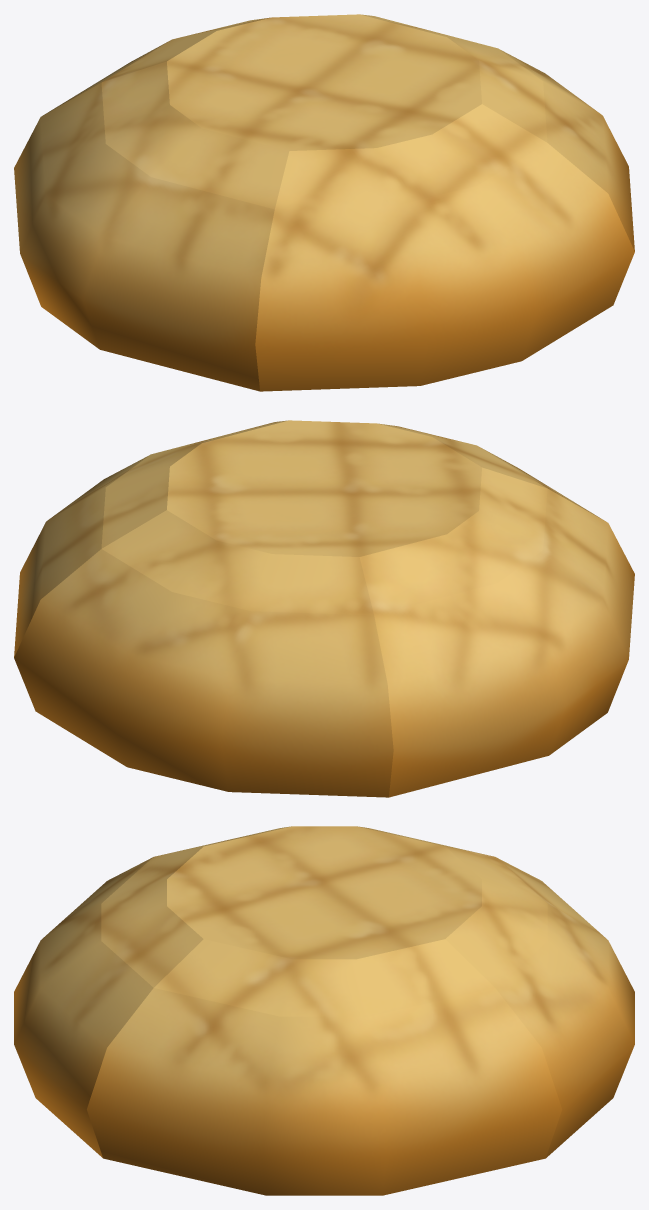
The model's file is Enemy2.fbx.
3 views of the same model, one above another, from view 1: azimuth 30°, elevation 25°; view 2: azimuth 150°, elevation 25°; view 3: azimuth 270°, elevation 25° (orthographic).
Parts seen in each view (by area): view 1: pCube1; view 2: pCube1; view 3: pCube1.
Boxes of the visible parts, x1=… form: pCube1: x1=14, y1=14, x2=634, y2=391; pCube1: x1=14, y1=420, x2=634, y2=797; pCube1: x1=14, y1=826, x2=634, y2=1195.
Bounding box in the file's own units: 215 × 69.07 × 215.
Materials: 1 (1 with a texture image).
